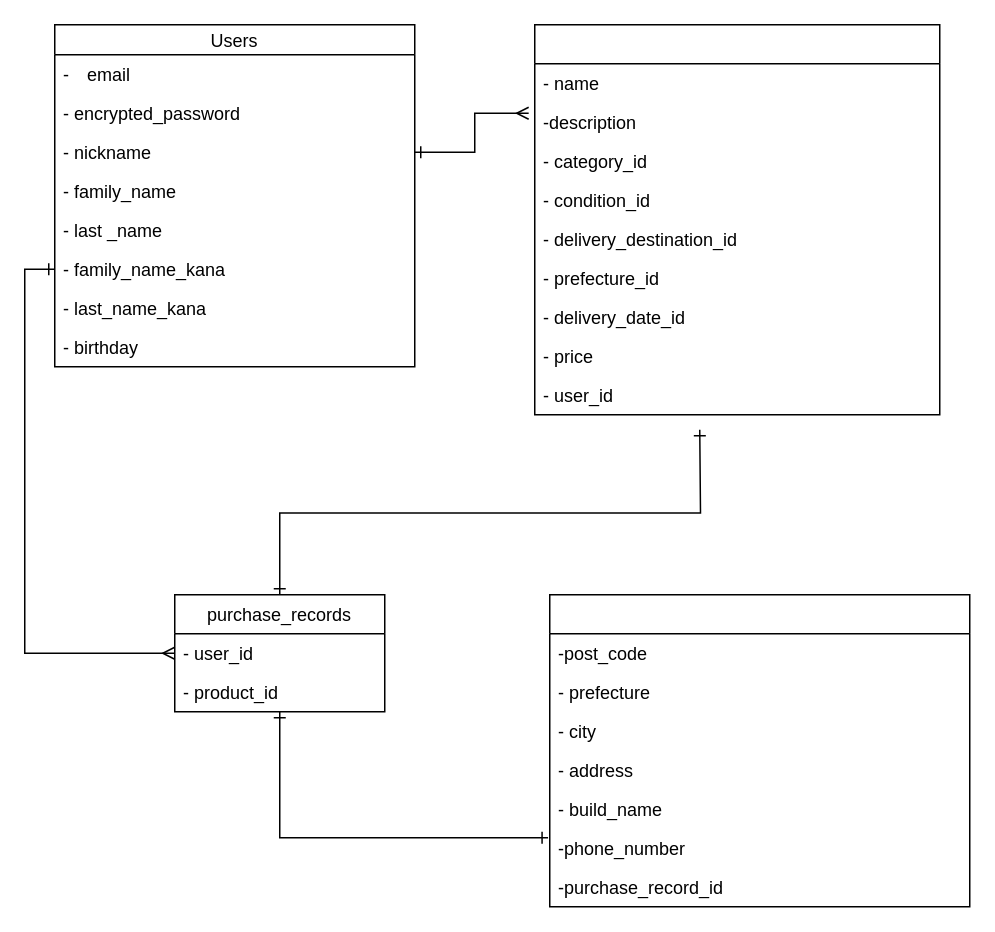
Image size: 995x932. Some labels were removed from this diagram. The box of each missing label's shape, as (x1, y1, x2, y2) in pixels:
Products: (533, 23, 940, 415)
Retailers: (548, 593, 970, 907)
